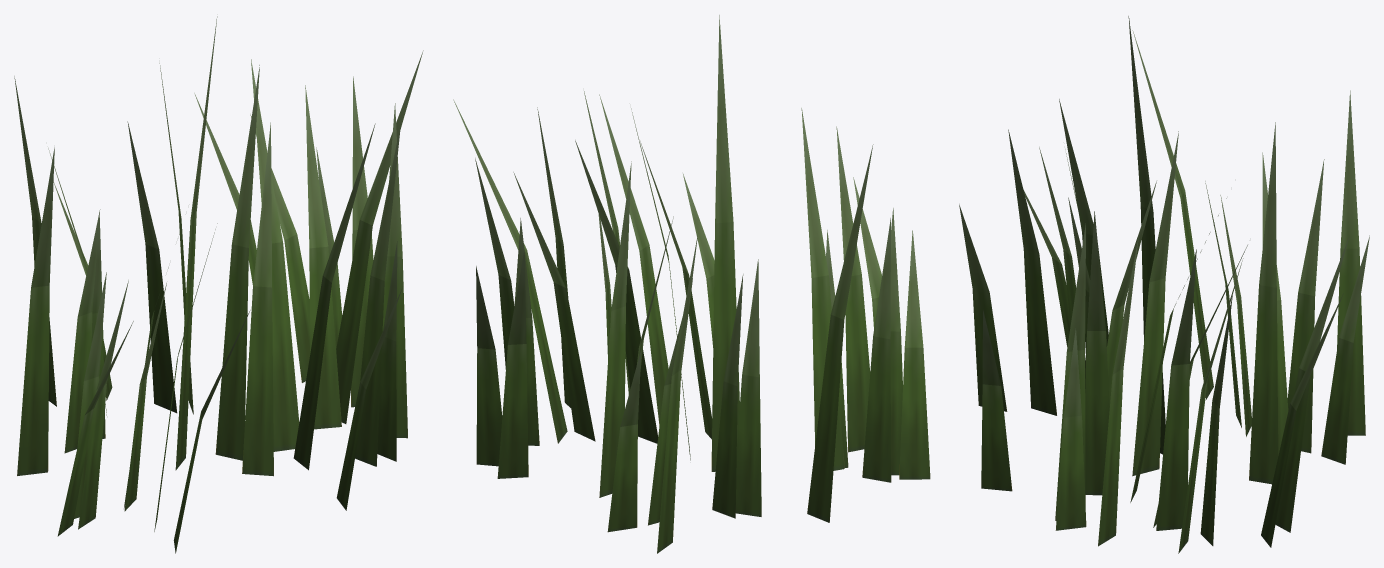
Rendered from grass_tall.obj.
3 views of the same model, side by side, from view 1: azimuth 30°, elevation 25°; view 2: azimuth 150°, elevation 25°; view 3: azimuth 270°, elevation 25° (orthographic). The views are drawn at different scales.
Visible parts, largest first — view 1: grass_tall; view 2: grass_tall; view 3: grass_tall.
Boxes of the visible parts, x1=… form: grass_tall: x1=14, y1=16, x2=423, y2=553; grass_tall: x1=453, y1=15, x2=930, y2=553; grass_tall: x1=959, y1=16, x2=1369, y2=553.
Size of the model in its own units: 0.7674 by 0.7772 by 0.6454.
1 material, 1 textured.
